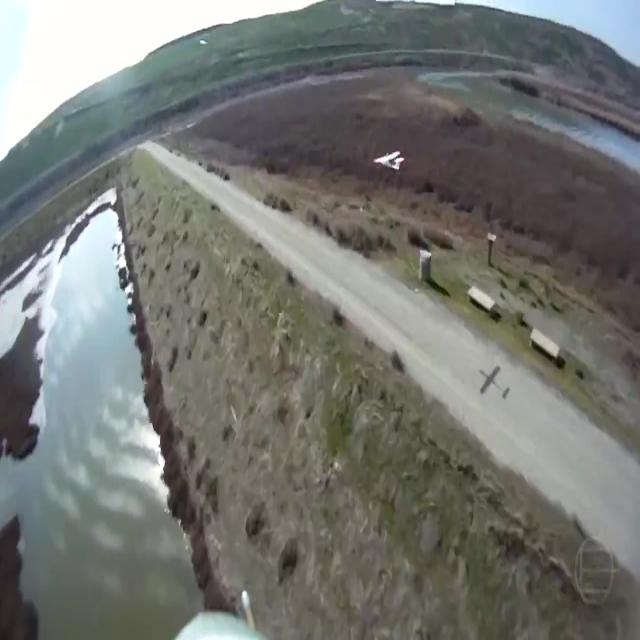iha: (372, 149, 405, 171)
